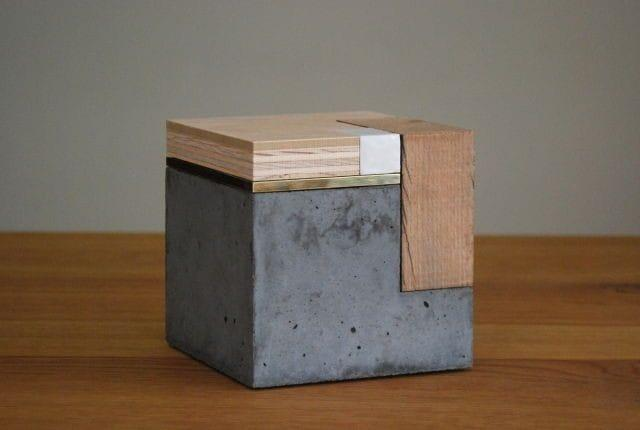cubos: (156, 105, 487, 392)
